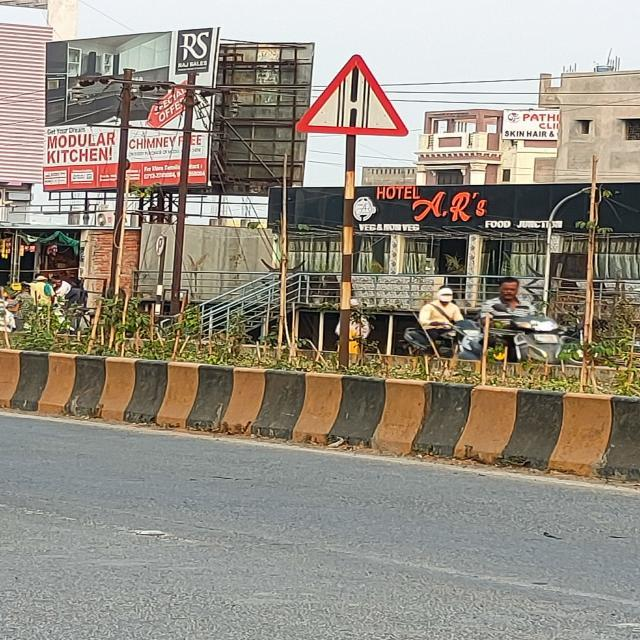gap in median: (296, 53, 413, 141)
